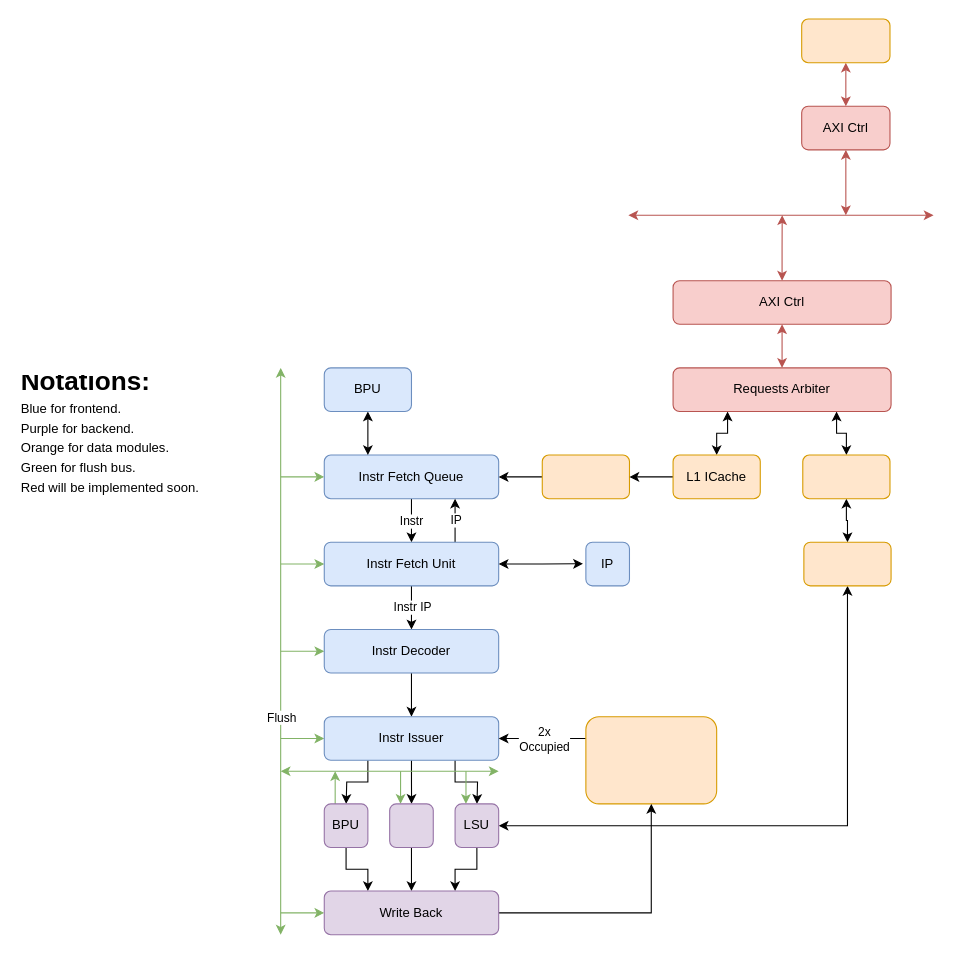
Some shapes in this 962 by 964 pixel diagram are drawn without their labels. Each missing label, with the centre of its shape:
ALU: (411,825)
Cache RO Warpper: (585,476)
Cache RW Warpper: (847,563)
L1 DCache: (846,476)
Memory: (845,40)
Register File 32 Items: (651,760)
